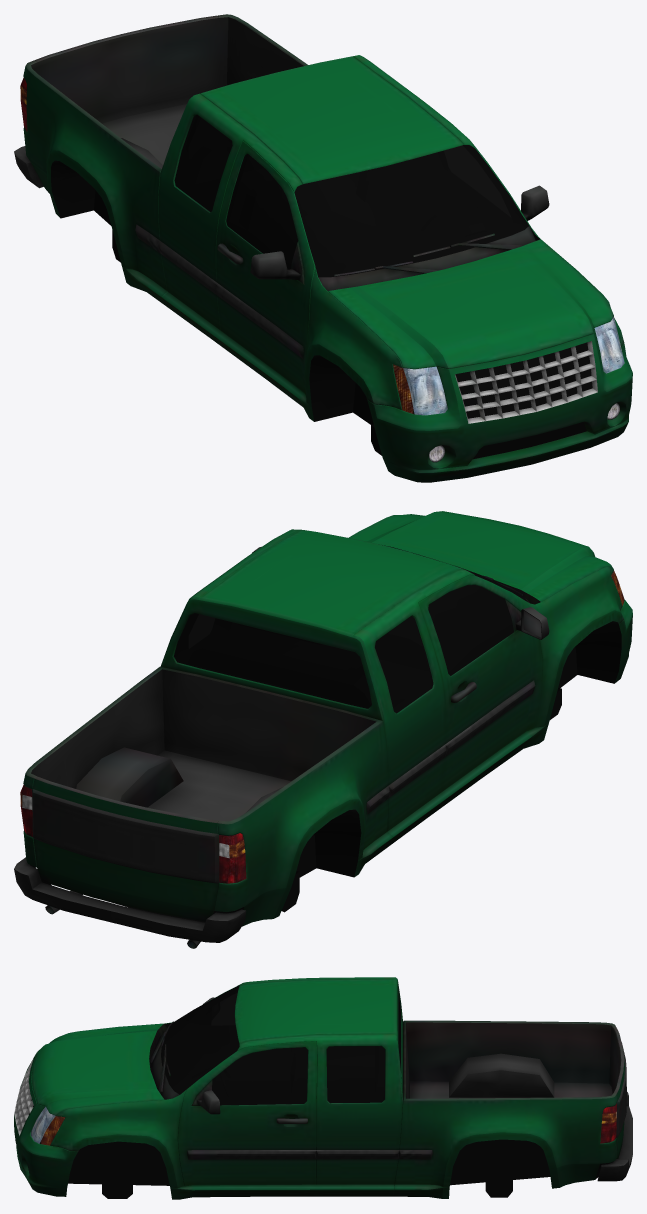
Rendered from auto-pickup.glb.
3 views of the same model, one above another, from view 1: azimuth 30°, elevation 25°; view 2: azimuth 150°, elevation 25°; view 3: azimuth 270°, elevation 25° (orthographic). The views are drawn at different scales.
Parts seen in each view (by area): view 1: Pickup Body; view 2: Pickup Body; view 3: Pickup Body.
Boxes of the visible parts, <box> form: Pickup Body: <box>14,14,632,482</box>; Pickup Body: <box>14,511,632,948</box>; Pickup Body: <box>14,977,632,1199</box>.
Bounding box in the file's own units: 2.07 × 1.51 × 5.18.
Materials: 3 (2 with a texture image).
